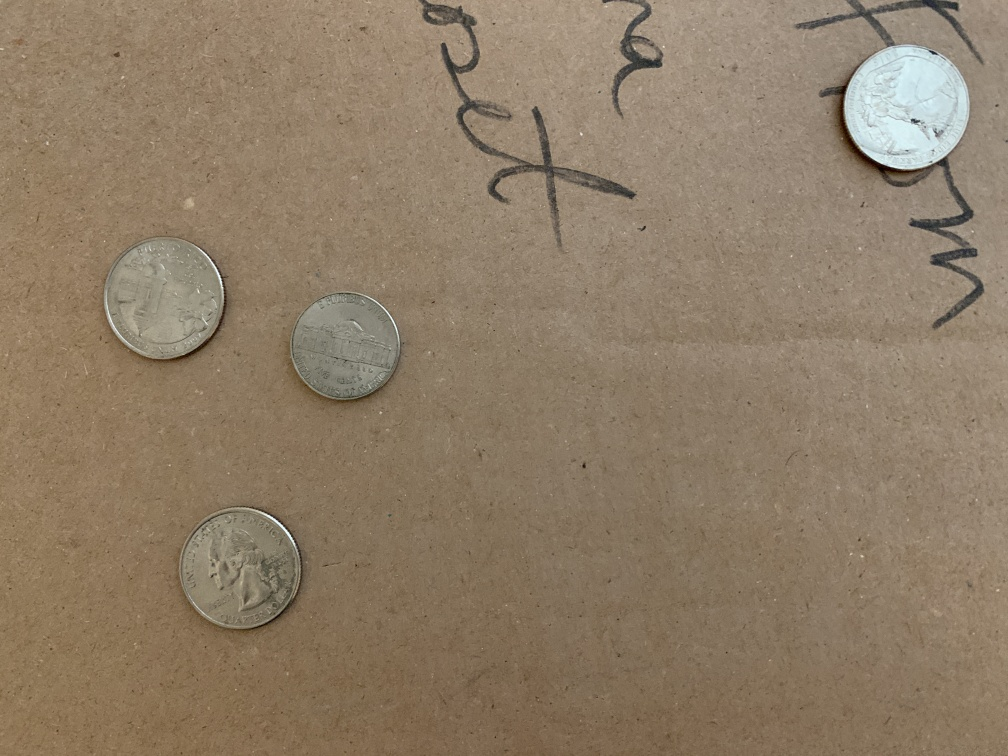nickel: (287, 289, 404, 411)
quarter: (837, 41, 970, 176), (97, 234, 230, 365), (173, 504, 305, 634)
